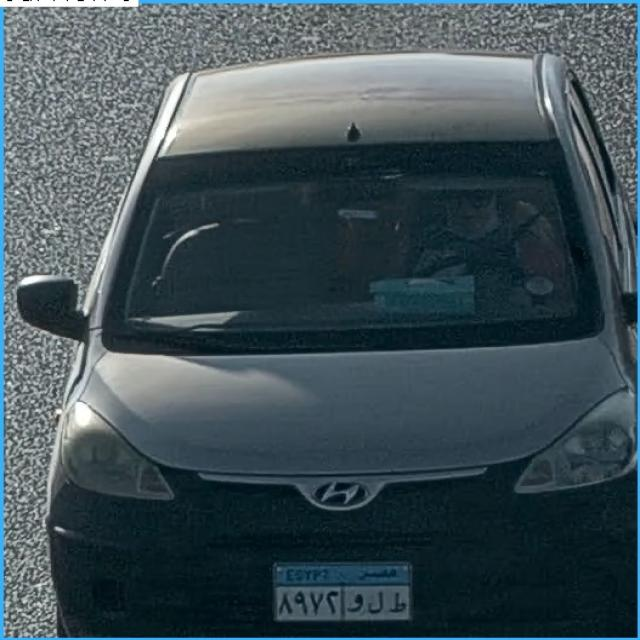windshield: (119, 157, 593, 335)
